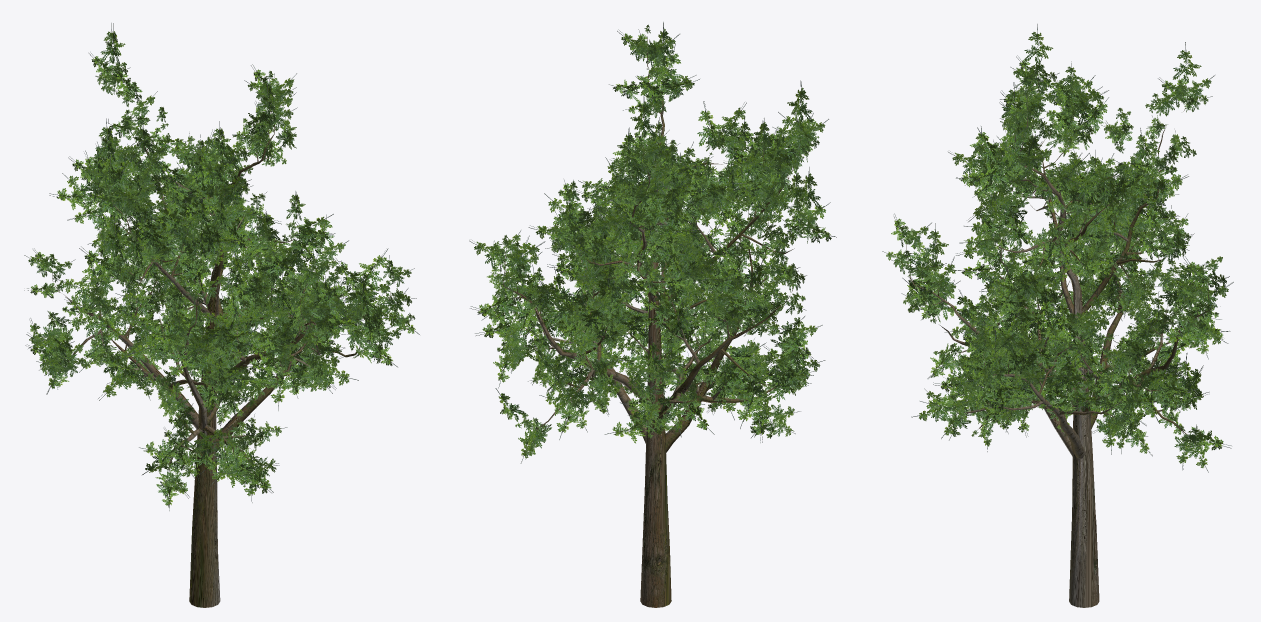
Rendered from street1.glb.
The picture shows the model from 3 angles, left to right: view 1: azimuth 30°, elevation 25°; view 2: azimuth 150°, elevation 25°; view 3: azimuth 270°, elevation 25°; orthographic projection. The views are drawn at different scales.
Parts seen in each view (by area): view 1: leaves, bark; view 2: leaves, bark; view 3: leaves, bark.
Boxes of the visible parts, <box> form: leaves: <box>24,23,419,510</box>; bark: <box>52,67,390,607</box>; leaves: <box>469,22,836,463</box>; bark: <box>503,36,800,607</box>; leaves: <box>882,24,1233,472</box>; bark: <box>906,75,1212,607</box>.
Size of the model in its own units: 5.58 by 8.5 by 5.25.
2 materials, 2 textured.
